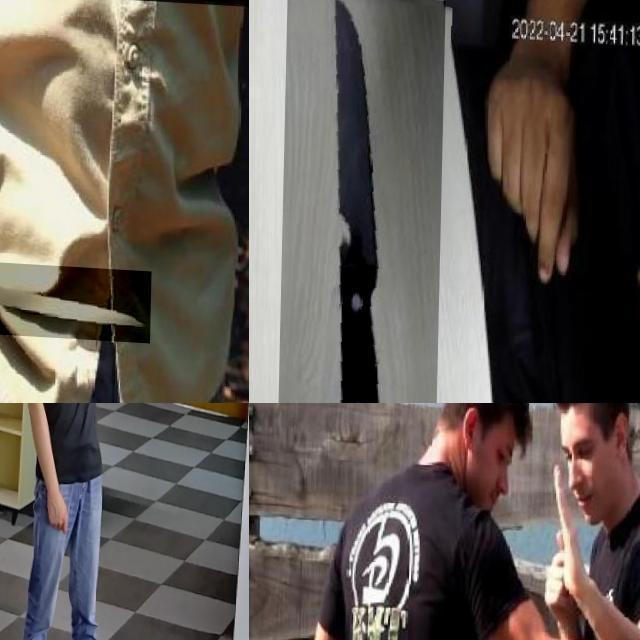-: (277, 0, 445, 403), (0, 252, 152, 337)
gun-knife-thesis - v11 Yolov5 augmented: (100, 403, 139, 454)
